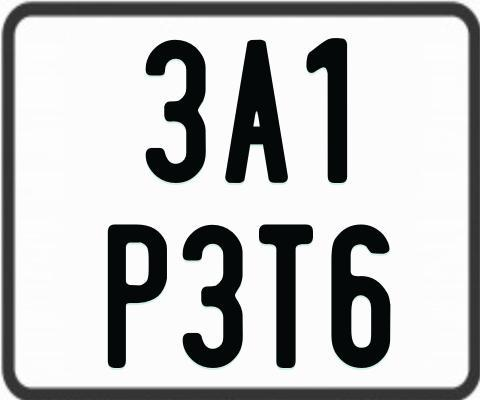1: (305, 36, 351, 185)
3: (180, 223, 246, 366), (143, 39, 207, 186)
6: (328, 223, 387, 370)
A: (225, 37, 289, 183)
P: (105, 223, 165, 367)
T: (258, 224, 318, 368)
